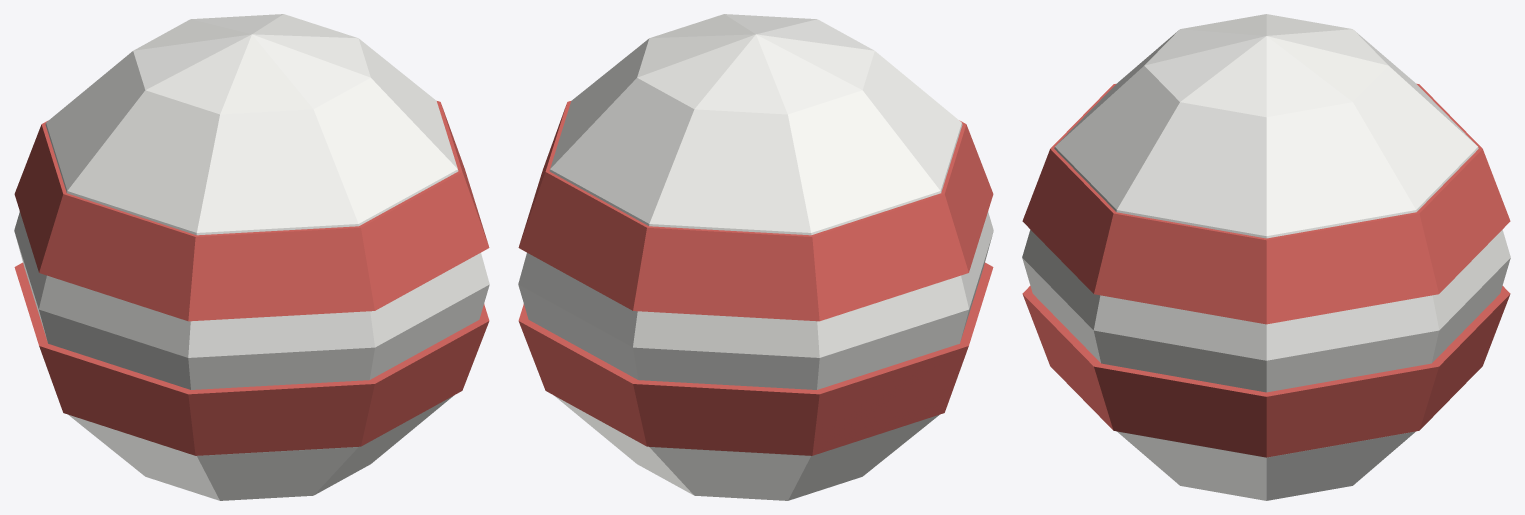
File: golf-course-and-clubhouse-golf-ball-striped-b3442ad3__33484.glb
3 views of the same model, side by side, from view 1: azimuth 30°, elevation 25°; view 2: azimuth 150°, elevation 25°; view 3: azimuth 270°, elevation 25° (orthographic).
Visible parts, largest first — view 1: golf-ball-striped; view 2: golf-ball-striped; view 3: golf-ball-striped.
Part boxes in pixels (x1,y1,x2,y2): golf-ball-striped: (14,14,489,500); golf-ball-striped: (518,14,993,500); golf-ball-striped: (1022,14,1510,500).
Size of the model in its own units: 0.0428 by 0.0428 by 0.0428.
